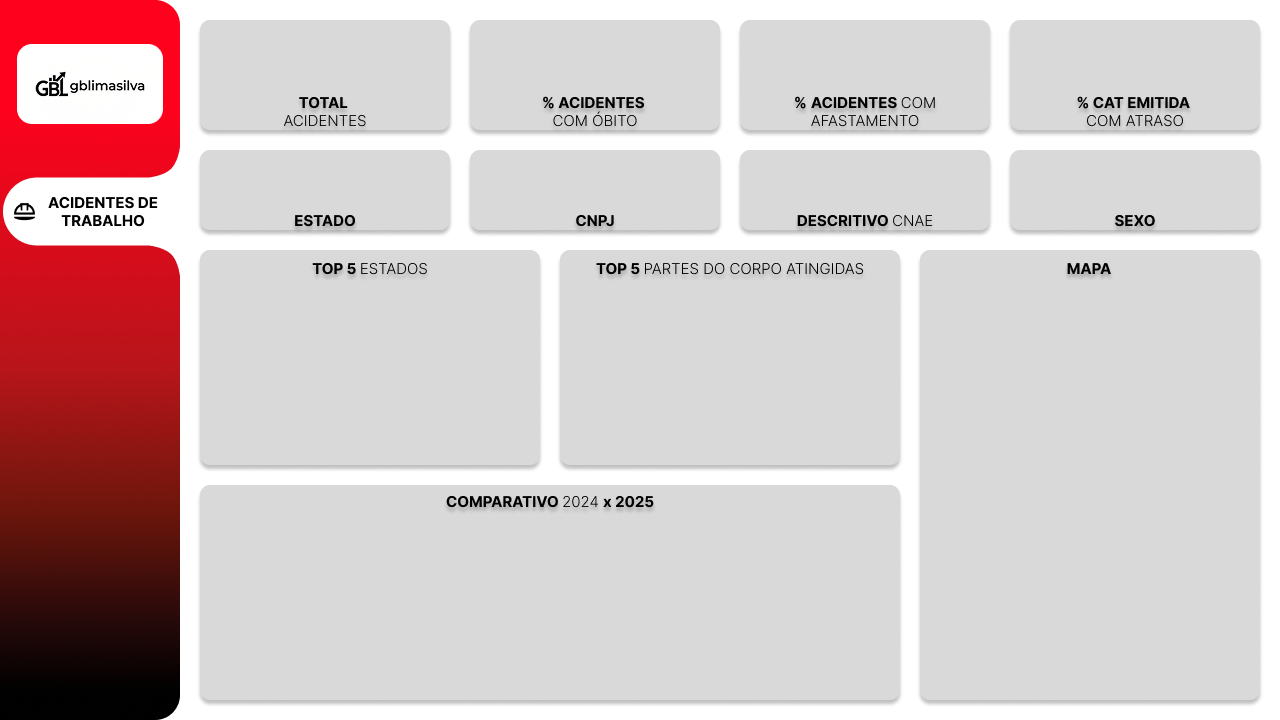

The page's visual inventory and layout, read from the dashboard file:
{"tool":"powerbi","page":{"name":"Página 1","canvas":[1280,720],"ordinal":1},"visuals":[{"type":"cardVisual","fields":{"Data":["Medidas.Total Acidentes"]},"box":[201.7,15,243.3,93.3],"z":0},{"type":"esriVisual","fields":{"Location":["acidentes_trabalho_tratado.UF__MUNIC.__ACIDENTE"],"Size":["Medidas.Total por UF"]},"box":[921.7,248.3,341.7,445],"z":2000},{"type":"slicer","fields":{"Values":["acidentes_trabalho_tratado.SEXO"]},"box":[1012,151,245,76],"z":3000},{"type":"slicer","fields":{"Values":["acidentes_trabalho_tratado.UF__MUNIC.__ACIDENTE"]},"box":[202,151,244,76],"z":4000},{"type":"slicer","fields":{"Values":["acidentes_trabalho_tratado.CNPJ_CEI_EMPREGADOR"]},"box":[473,151,246,76],"z":5000},{"type":"lineChart","fields":{"Category":["acidentes_trabalho_tratado.DATA_ACIDENTE.1.Variation.Hierarquia de datas.Mês"],"Series":["acidentes_trabalho_tratado.ANO_BASE"],"Y":["Medidas.Total Acidentes"]},"box":[201,510,696,196],"z":6000},{"type":"actionButton","box":[12.2,618.9,147.8,63.3],"z":8000},{"type":"clusteredBarChart","fields":{"Category":["acidentes_trabalho_tratado.UF__MUNIC.__ACIDENTE"],"Y":["Medidas.Total Acidentes"]},"box":[201.7,261.7,336.7,196.7],"z":9000},{"type":"cardVisual","fields":{"Data":["Medidas.% Acidentes com Óbito"]},"box":[473.3,15,246.7,93.3],"z":9001},{"type":"slicer","fields":{"Values":["acidentes_trabalho_tratado.CNAE2.0_EMPREGADOR.1"]},"box":[739,151,246,76],"z":9003},{"type":"cardVisual","fields":{"Data":["Medidas.% Com Afastamento"]},"box":[741.7,15,246.7,93.3],"z":9004},{"type":"cardVisual","fields":{"Data":["Medidas.% CAT Atrasada"]},"box":[1011.7,15,251.7,93.3],"z":9005},{"type":"clusteredBarChart","fields":{"Category":["acidentes_trabalho_tratado.PARTE_CORPO_ATINGIDA"],"Y":["Medidas.Total Acidentes"]},"box":[561.7,261.7,336.7,196.7],"z":9006}]}

Visuals, with their boxes on the page's 1280x720 design canvas (x1, y1, x2, y2). These are canvas units, not pixel positions in the 1280x720 screenshot, which may show the page scaled, cropped or inside an application window:
cardVisual - Medidas.Total Acidentes: [x1=202, y1=15, x2=445, y2=108]
esriVisual - acidentes_trabalho_tratado.UF__MUNIC.__ACIDENTE x Medidas.Total por UF: [x1=922, y1=248, x2=1263, y2=693]
slicer - acidentes_trabalho_tratado.SEXO: [x1=1012, y1=151, x2=1257, y2=227]
slicer - acidentes_trabalho_tratado.UF__MUNIC.__ACIDENTE: [x1=202, y1=151, x2=446, y2=227]
slicer - acidentes_trabalho_tratado.CNPJ_CEI_EMPREGADOR: [x1=473, y1=151, x2=719, y2=227]
lineChart - acidentes_trabalho_tratado.DATA_ACIDENTE.1.Variation.Hierarquia de datas.Mês x acidentes_trabalho_tratado.ANO_BASE: [x1=201, y1=510, x2=897, y2=706]
actionButton: [x1=12, y1=619, x2=160, y2=682]
clusteredBarChart - acidentes_trabalho_tratado.UF__MUNIC.__ACIDENTE x Medidas.Total Acidentes: [x1=202, y1=262, x2=538, y2=458]
cardVisual - Medidas.% Acidentes com Óbito: [x1=473, y1=15, x2=720, y2=108]
slicer - acidentes_trabalho_tratado.CNAE2.0_EMPREGADOR.1: [x1=739, y1=151, x2=985, y2=227]
cardVisual - Medidas.% Com Afastamento: [x1=742, y1=15, x2=988, y2=108]
cardVisual - Medidas.% CAT Atrasada: [x1=1012, y1=15, x2=1263, y2=108]
clusteredBarChart - acidentes_trabalho_tratado.PARTE_CORPO_ATINGIDA x Medidas.Total Acidentes: [x1=562, y1=262, x2=898, y2=458]
